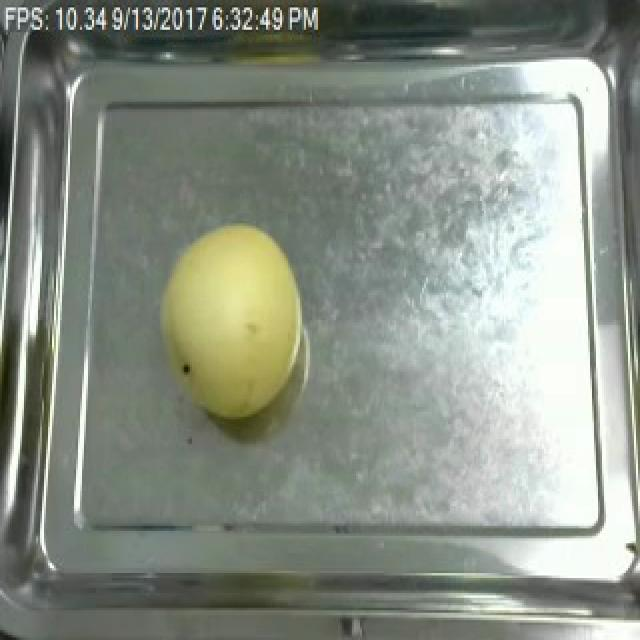Fruit: (152, 213, 312, 427)
